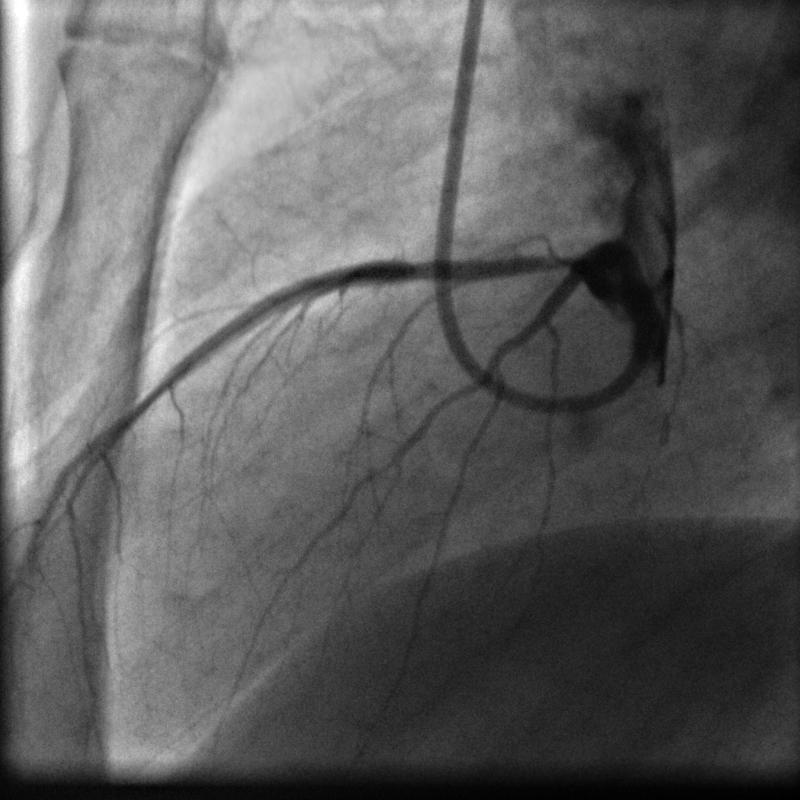Stenosis: (398, 249, 427, 287)
